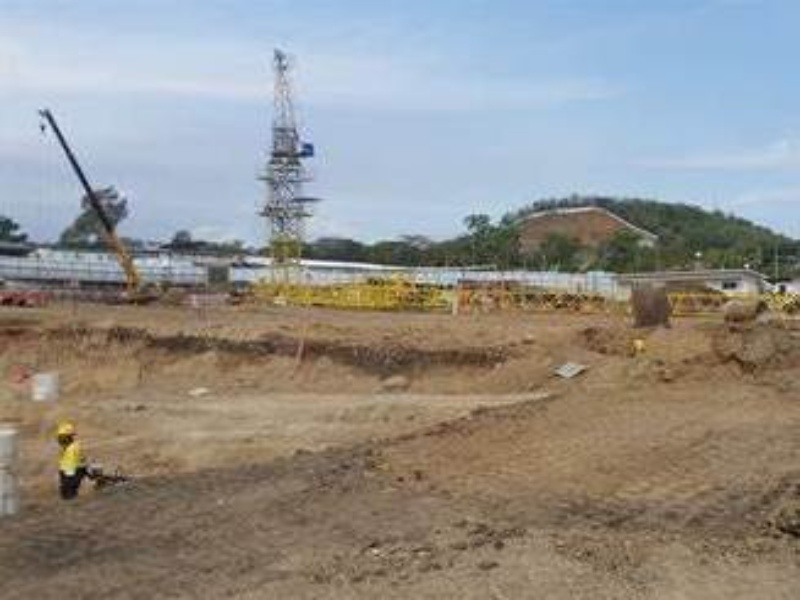crane: (32, 106, 166, 311)
